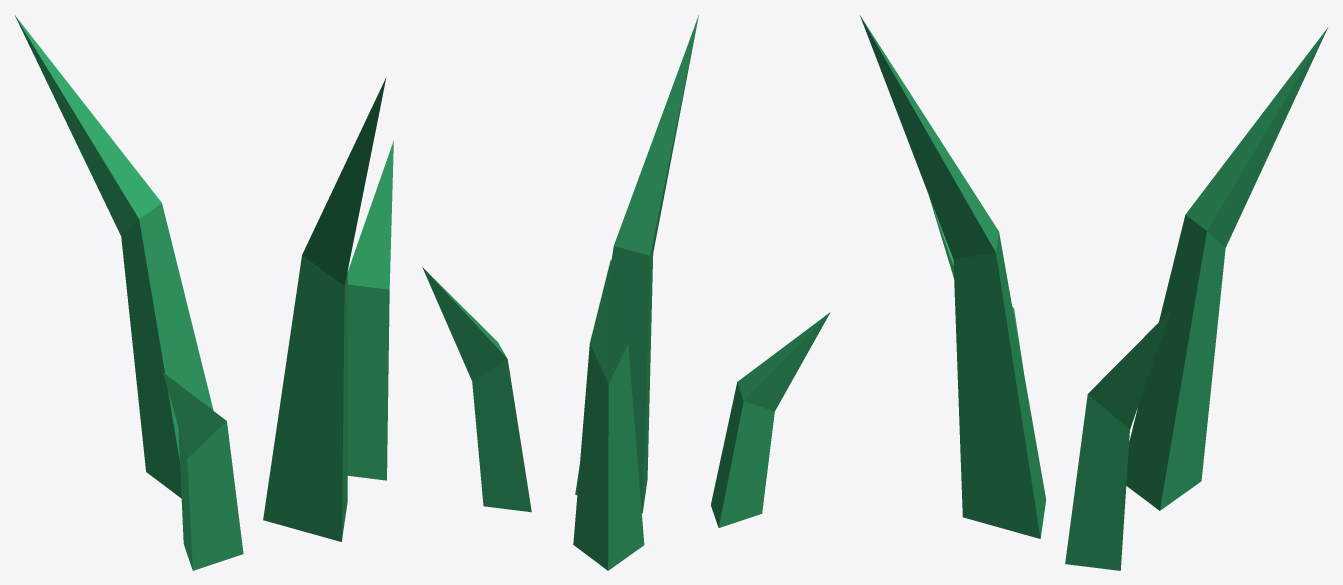
The model's file is grass1.gltf.
The picture shows the model from 3 angles, left to right: view 1: azimuth 30°, elevation 25°; view 2: azimuth 150°, elevation 25°; view 3: azimuth 270°, elevation 25°; orthographic projection. The views are drawn at different scales.
Visible parts, largest first — view 1: Circle.012; view 2: Circle.012; view 3: Circle.012.
Part boxes in pixels (bbox=[...]): Circle.012: bbox=[15, 15, 393, 570]; Circle.012: bbox=[422, 15, 830, 570]; Circle.012: bbox=[860, 15, 1328, 570].
Size of the model in its own units: 47.84 by 65.38 by 55.66.
